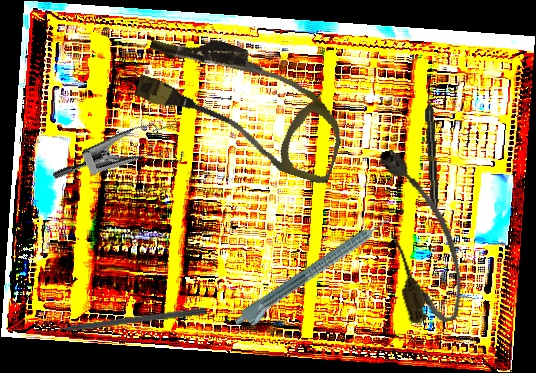Cannula: (125, 20, 360, 187), (367, 140, 473, 331)
Handpiece: (231, 213, 398, 335), (423, 89, 441, 213)
Pusher: (38, 305, 207, 336)
Speculum: (50, 96, 198, 227)
